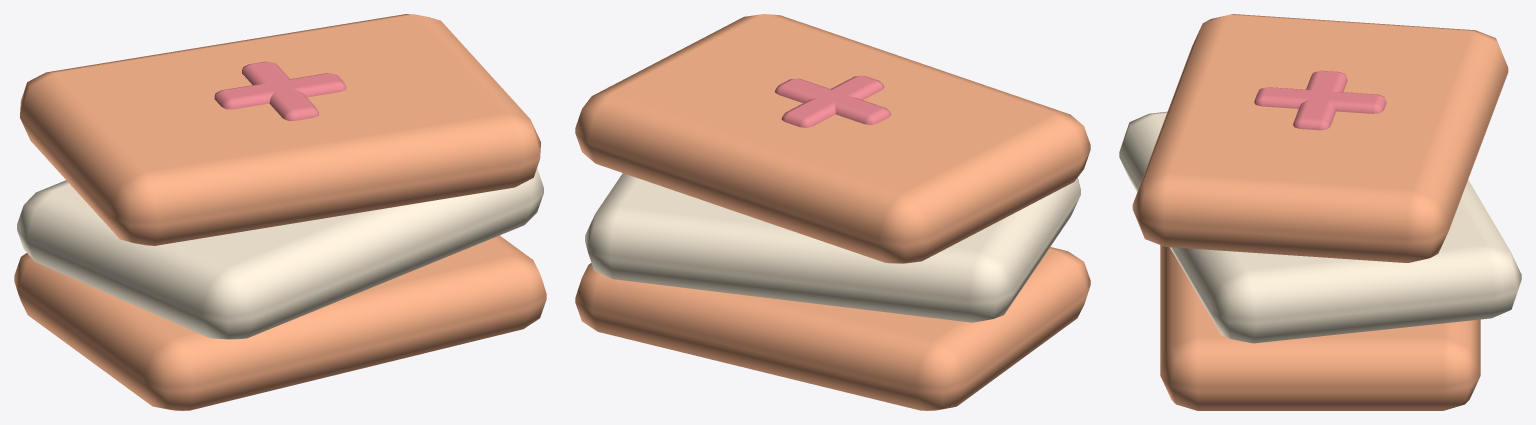
File: ors_packets.glb
3 views of the same model, side by side, from view 1: azimuth 30°, elevation 25°; view 2: azimuth 150°, elevation 25°; view 3: azimuth 270°, elevation 25° (orthographic). The views are drawn at different scales.
Parts seen in each view (by area): view 1: Packet2, Packet0, Packet1, Cross, Cross2; view 2: Packet2, Packet0, Packet1, Cross, Cross2; view 3: Packet2, Packet1, Packet0, Cross2, Cross.
Boxes of the visible parts, x1,y1,x2,y2 form: Packet2: (20,14,540,245); Packet0: (14,235,546,410); Packet1: (17,168,543,340); Cross: (214,73,346,109); Cross2: (242,61,318,120); Packet2: (575,14,1090,263); Packet0: (575,247,1090,410); Packet1: (585,173,1080,322); Cross: (775,78,891,124); Cross2: (781,75,884,127); Packet2: (1132,14,1508,262); Packet1: (1119,111,1521,343); Packet0: (1160,245,1480,410); Cross2: (1254,87,1386,113); Cross: (1293,70,1347,130).
Size of the model in its own units: 0.1872 by 0.097 by 0.1508.
